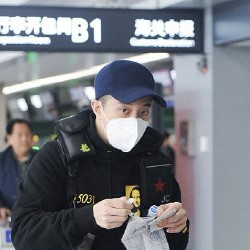mask: (99, 96, 153, 156)
